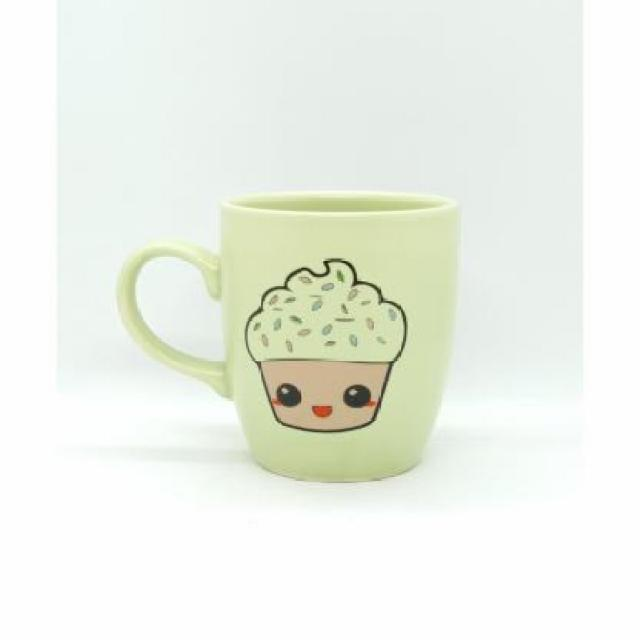taza: (114, 185, 476, 494)
